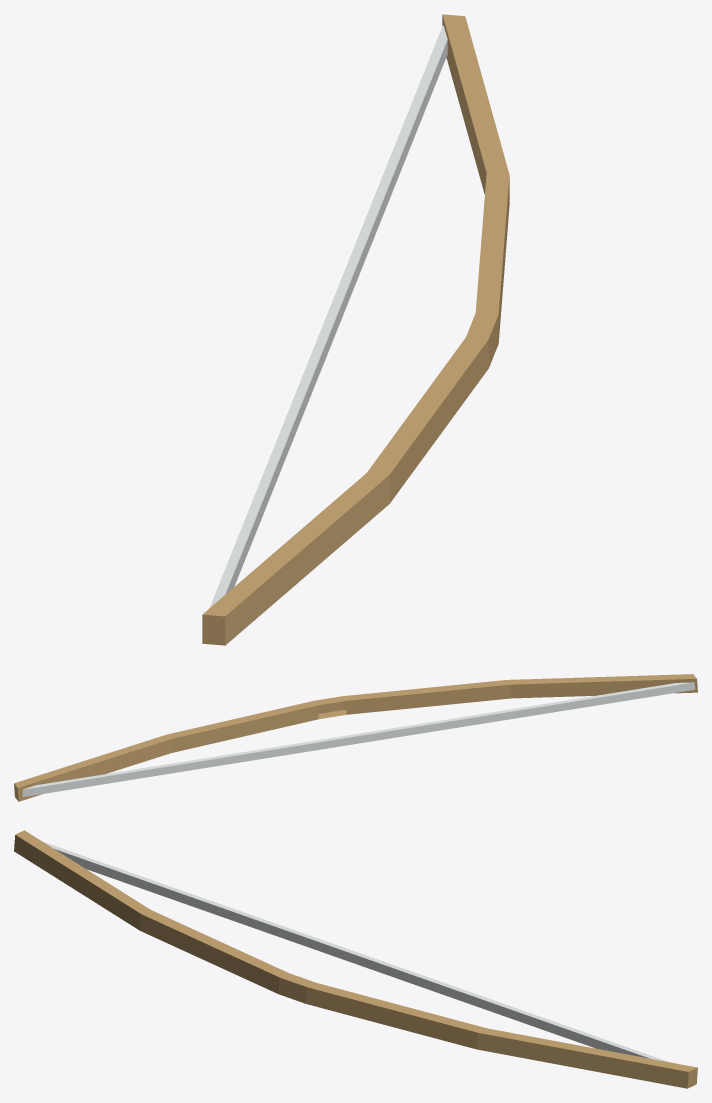
File: wooden_longbow.glb
The picture shows the model from 3 angles, top to bottom: view 1: azimuth 30°, elevation 25°; view 2: azimuth 150°, elevation 25°; view 3: azimuth 270°, elevation 25°; orthographic projection. The views are drawn at different scales.
Visible parts, largest first — view 1: wooden_longbow; view 2: wooden_longbow; view 3: wooden_longbow.
Boxes of the visible parts, x1,y1,x2,y2 form: wooden_longbow: [202, 14, 509, 645]; wooden_longbow: [14, 674, 697, 801]; wooden_longbow: [14, 830, 697, 1088].
Bounding box in the file's own units: 0.5969 × 0.0227 × 0.7201.
